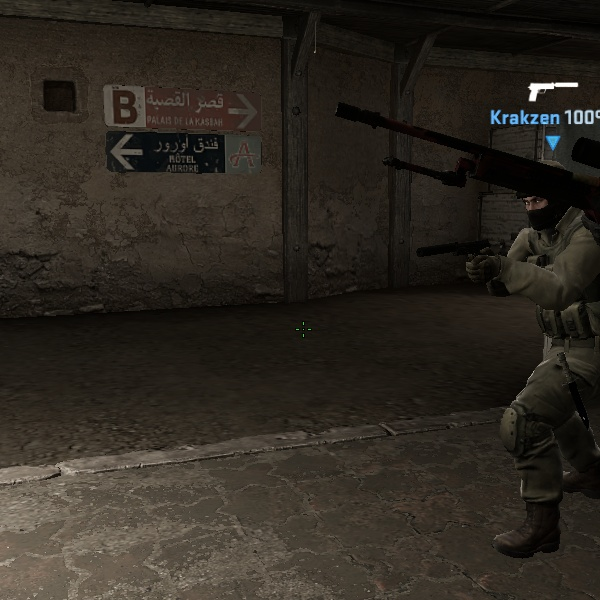ct_body: (463, 148, 594, 556)
ct_head: (502, 159, 586, 243)
